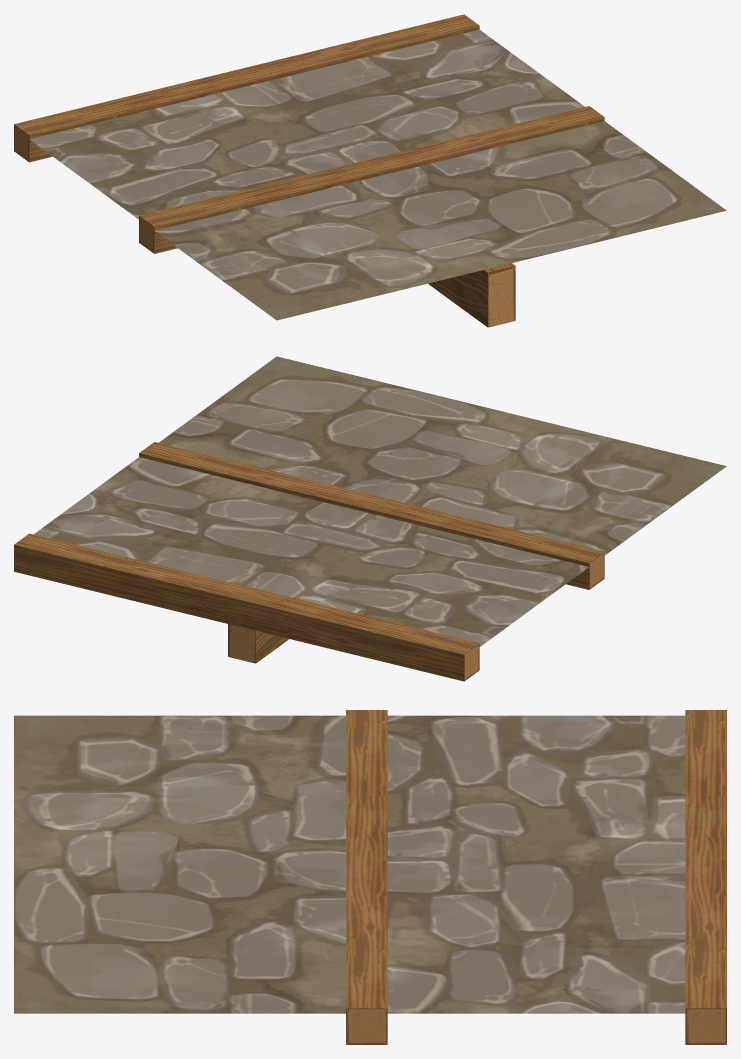
File: Overhang_Roof_UnevenBricks.obj
The picture shows the model from 3 angles, top to bottom: view 1: azimuth 30°, elevation 25°; view 2: azimuth 150°, elevation 25°; view 3: azimuth 270°, elevation 25°; orthographic projection. The views are drawn at different scales.
Visible parts, largest first — view 1: Overhang_Roof_UnevenBricks; view 2: Overhang_Roof_UnevenBricks; view 3: Overhang_Roof_UnevenBricks.
Boxes of the visible parts, box(x1,y1,x2,y2) form: Overhang_Roof_UnevenBricks: box(14, 14, 726, 327); Overhang_Roof_UnevenBricks: box(14, 356, 726, 681); Overhang_Roof_UnevenBricks: box(14, 710, 726, 1044).
Bounding box in the file's own units: 2 × 0.2659 × 2.02.
